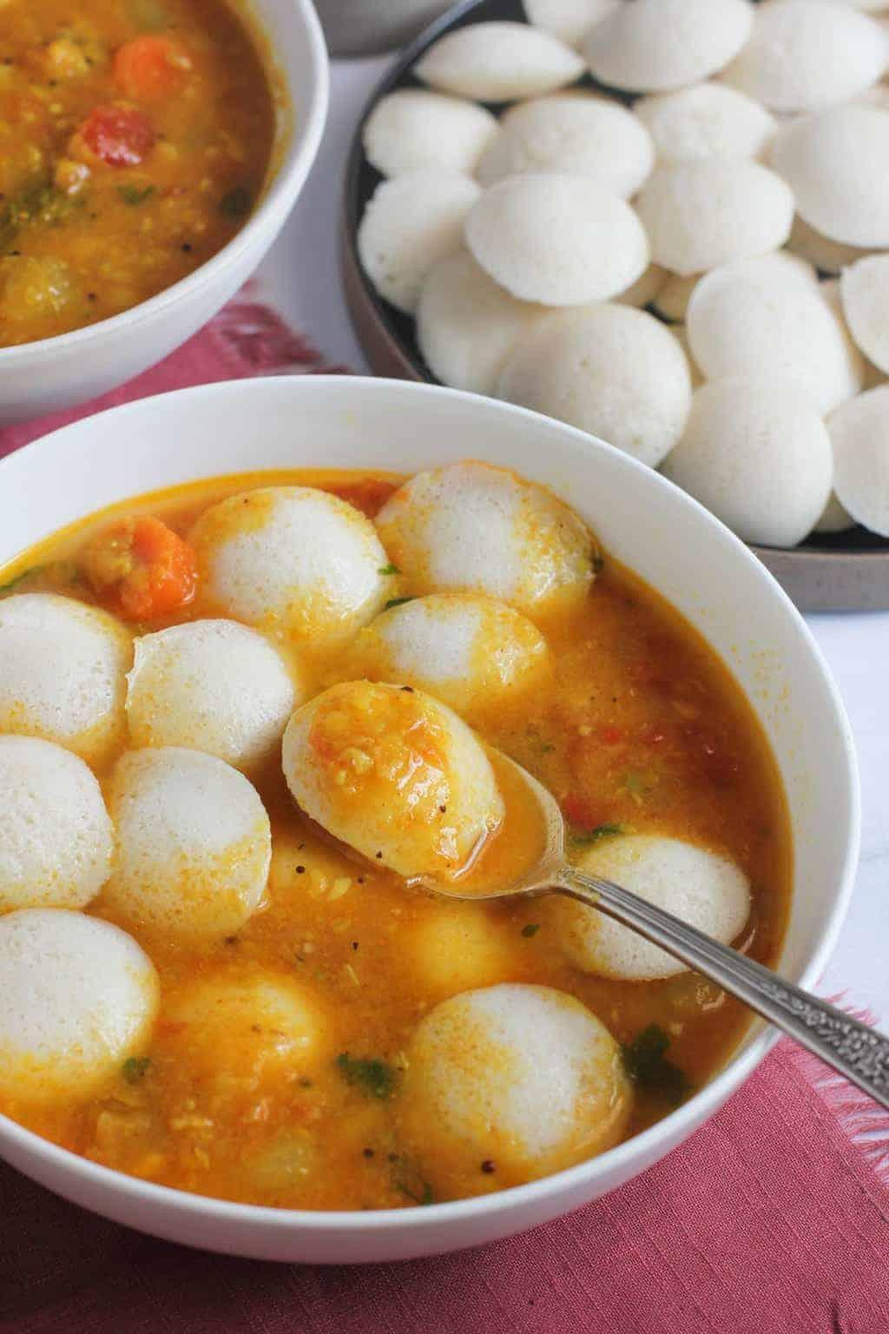idli: (414, 10, 889, 536), (0, 488, 292, 1057), (218, 427, 549, 669), (414, 974, 607, 1193), (569, 823, 804, 983)
sambhar: (84, 918, 488, 1213), (0, 0, 284, 371)
